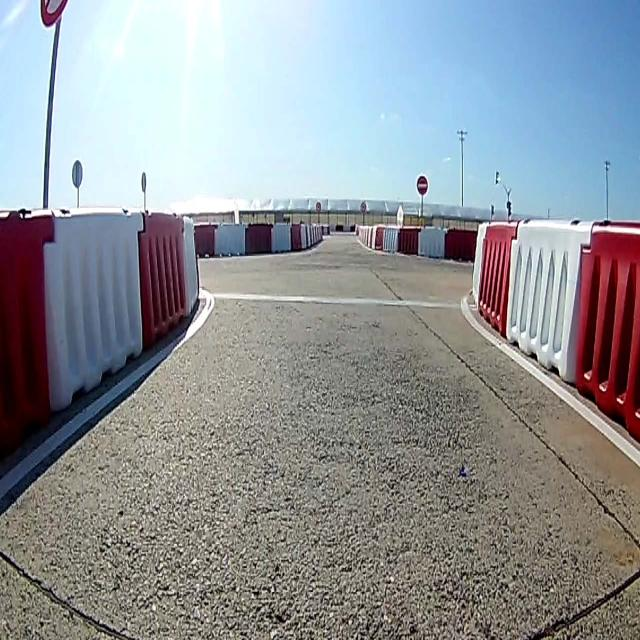girisyok: (416, 172, 428, 196)
